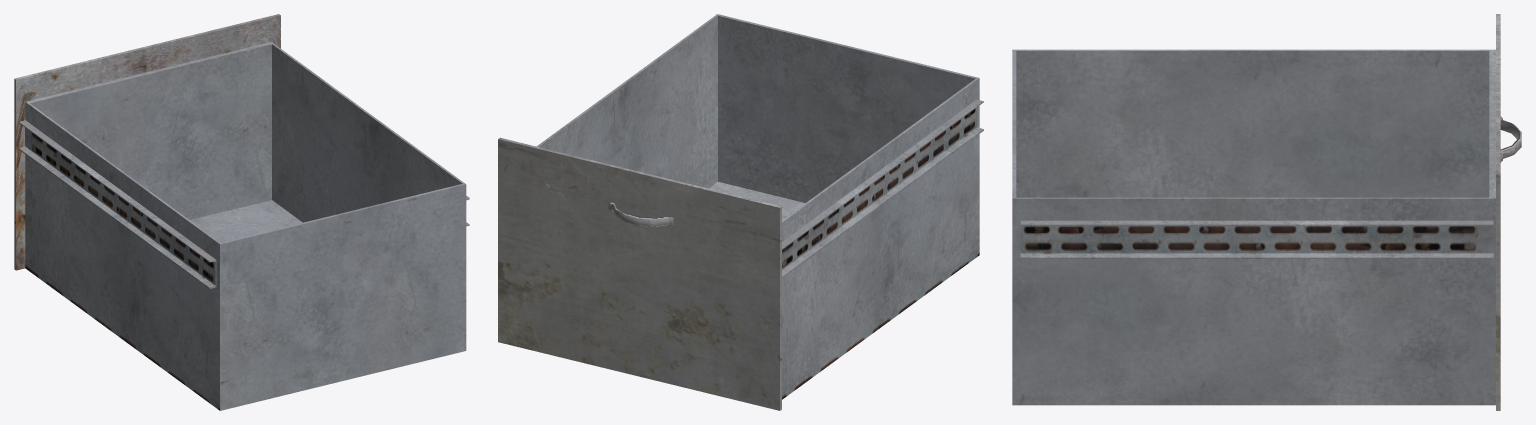
File: MetalDesk_Drawer.fbx
3 views of the same model, side by side, from view 1: azimuth 30°, elevation 25°; view 2: azimuth 150°, elevation 25°; view 3: azimuth 270°, elevation 25° (orthographic). The views are drawn at different scales.
Visible parts, largest first — view 1: MetalDesk_Drawer_4; view 2: MetalDesk_Drawer_4; view 3: MetalDesk_Drawer_4.
Part boxes in pixels (bbox=[...]): MetalDesk_Drawer_4: bbox=[14, 14, 469, 410]; MetalDesk_Drawer_4: bbox=[498, 14, 983, 410]; MetalDesk_Drawer_4: bbox=[1012, 14, 1521, 410].
Size of the model in its own units: 0.402 by 0.2766 by 0.5394.
